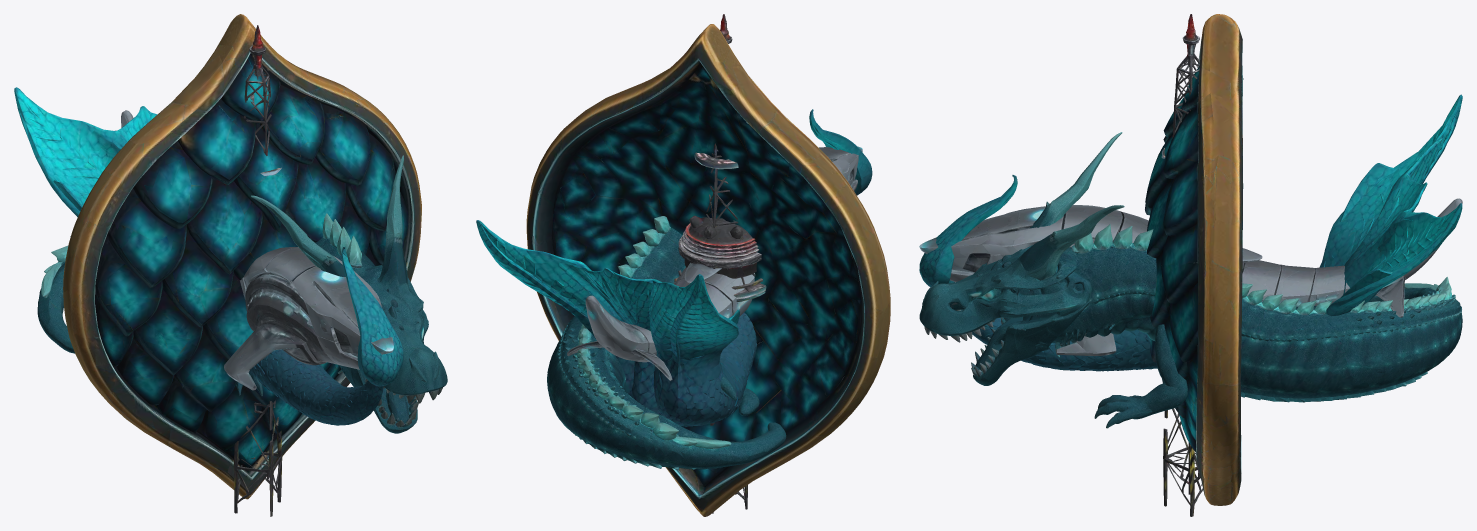
The model's file is mx_raid_all.glb.
The picture shows the model from 3 angles, left to right: view 1: azimuth 30°, elevation 25°; view 2: azimuth 150°, elevation 25°; view 3: azimuth 270°, elevation 25°; orthographic projection.
Visible parts, largest first — view 1: rd_scale, rd_lev_tail, rd_lev_head, rd_eel, rd_rod; view 2: rd_scale, rd_lev_tail, rd_lev_head, rd_eel, rd_rod; view 3: rd_lev_head, rd_scale, rd_lev_tail, rd_eel, rd_rod.
Part boxes in pixels (x1,y1,x2,y2): rd_scale: (63,14,421,499); rd_lev_tail: (14,87,403,425); rd_lev_head: (37,155,447,433); rd_eel: (121,110,393,390); rd_rod: (233,25,282,516); rd_scale: (526,24,890,516); rd_lev_tail: (476,109,872,426); rd_lev_head: (547,216,786,469); rd_eel: (567,146,862,380); rd_rod: (674,14,766,513); rd_lev_head: (919,132,1462,428); rd_scale: (1145,14,1243,505); rd_lev_tail: (919,94,1462,371); rd_eel: (919,198,1462,356); rd_rod: (1161,14,1203,516).
Bounding box in the file's own units: 1.45 × 1.9 × 1.9.
5 materials, 5 textured.
